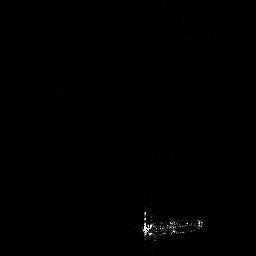ship: (142, 217, 204, 237)
